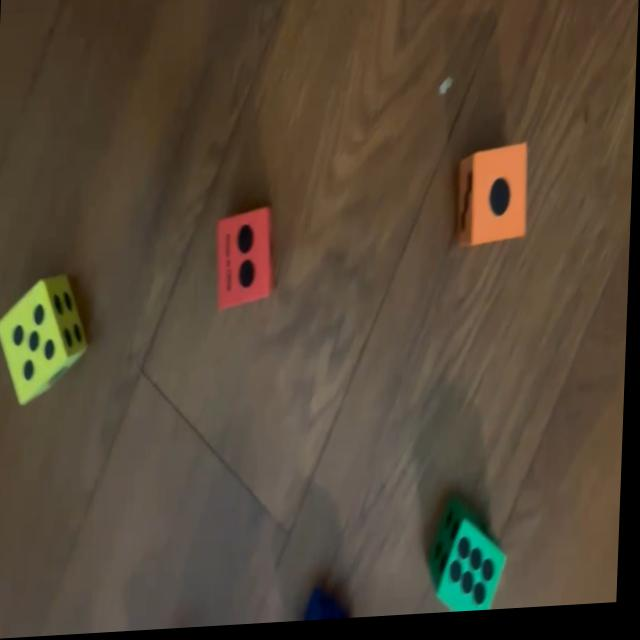blue_block: (305, 590, 348, 625)
red_block: (215, 208, 280, 315)
